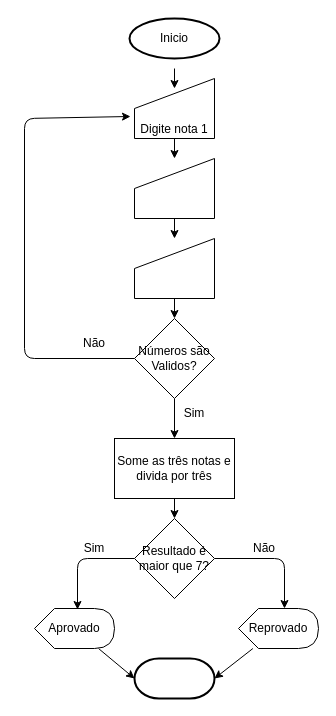
Some shapes in this 336 by 716 pixel diagram are drawn without their labels. The shapes that lost their labels are listed below. From the top down, each one's centre as x and y in pixels, then its label:
At pixel 174 188: "Digite nota 2".
At pixel 174 268: "Digite nota 3".
At pixel 174 678: "Fim".
